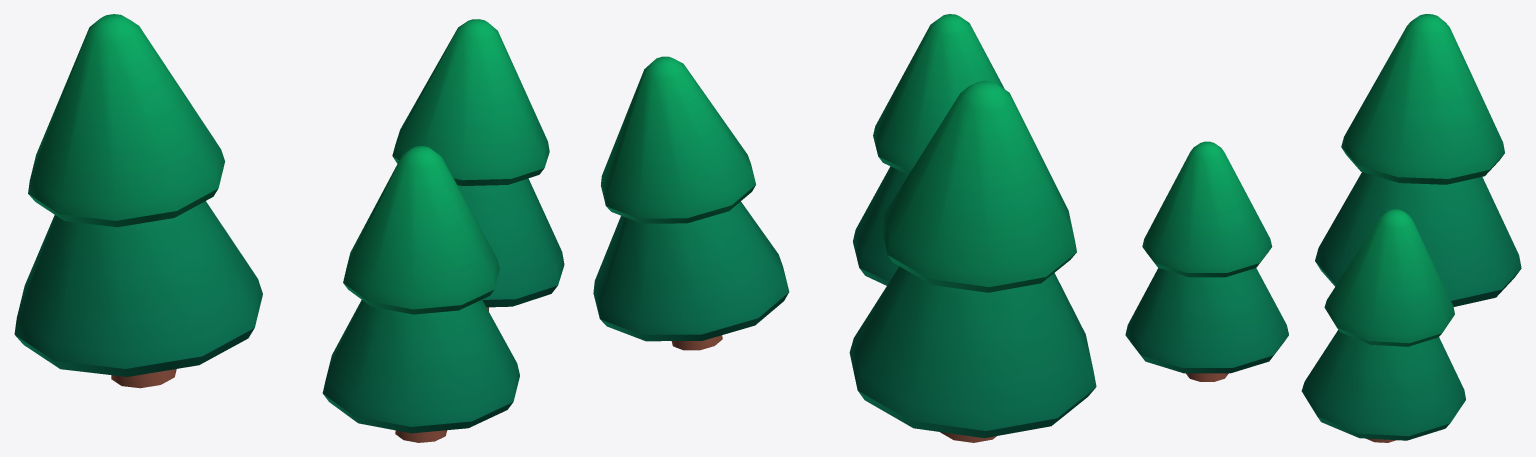
The model's file is trees_b_small.glb.
The picture shows the model from 3 angles, left to right: view 1: azimuth 30°, elevation 25°; view 2: azimuth 150°, elevation 25°; view 3: azimuth 270°, elevation 25°; orthographic projection. The views are drawn at different scales.
Visible parts, largest first — view 1: trees_B_small; view 2: trees_B_small; view 3: trees_B_small.
Boxes of the visible parts, left/top/right/bottom form: trees_B_small: left=14, top=14, right=564, bottom=442; trees_B_small: left=593, top=14, right=1096, bottom=442; trees_B_small: left=1125, top=14, right=1521, bottom=442.
Bounding box in the file's own units: 1.33 × 0.9218 × 1.14.
Materials: 1 (1 with a texture image).
